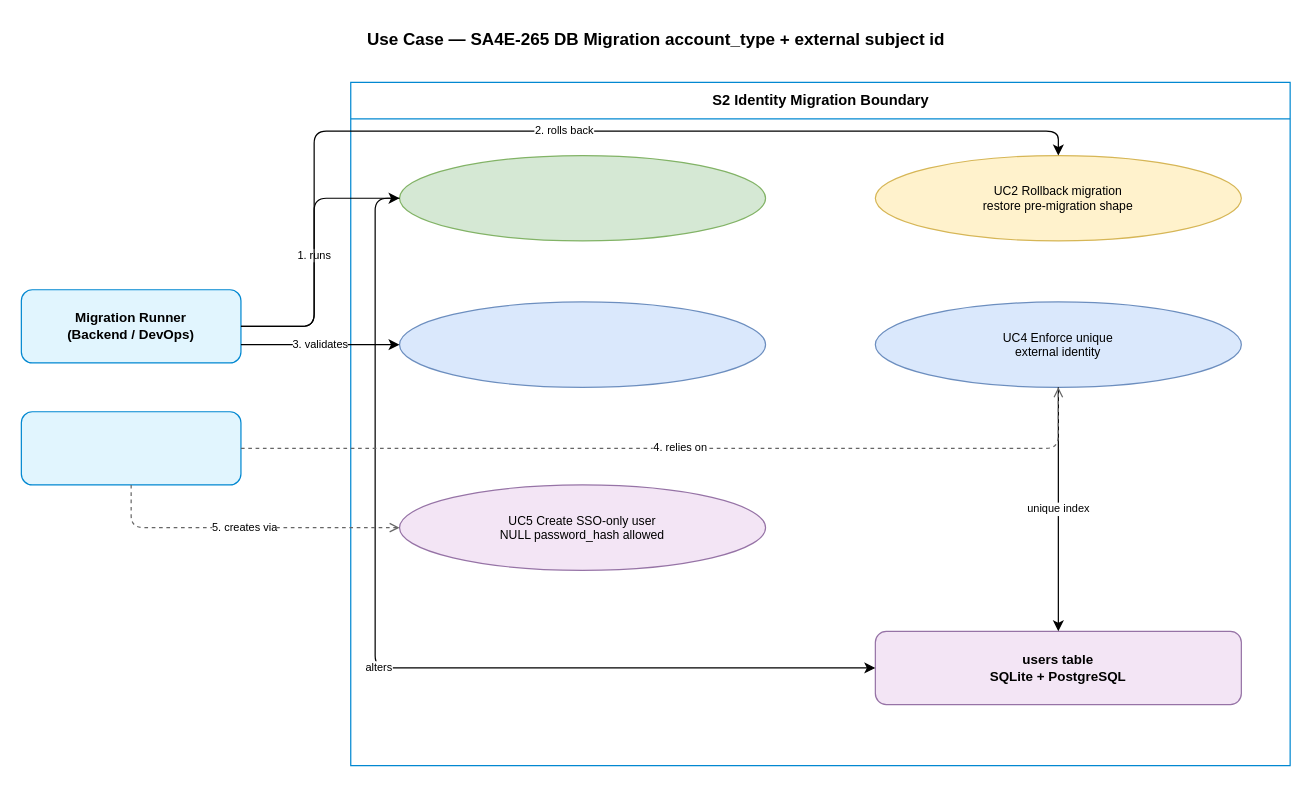
The diagram is 1312 pixels wide and 787 high, and some of its shapes have lost their labels. The centre of each missing label's shape, as x and y in pixels:
JIT Service (S5) downstream consumer: the point at 130,448
UC1 Run migration ADD COLUMNs both engines: the point at 582,197
UC3 Enforce account_type LOCAL or SSO, no HYBRID: the point at 582,344
